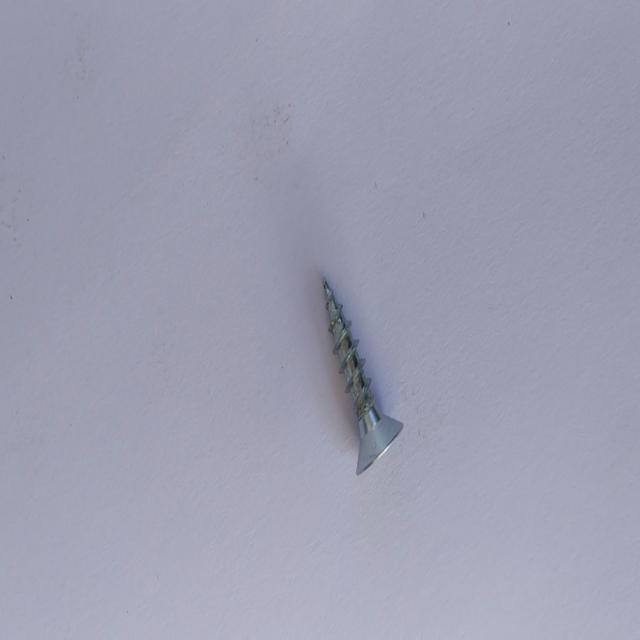Screw: (323, 276, 404, 475)
